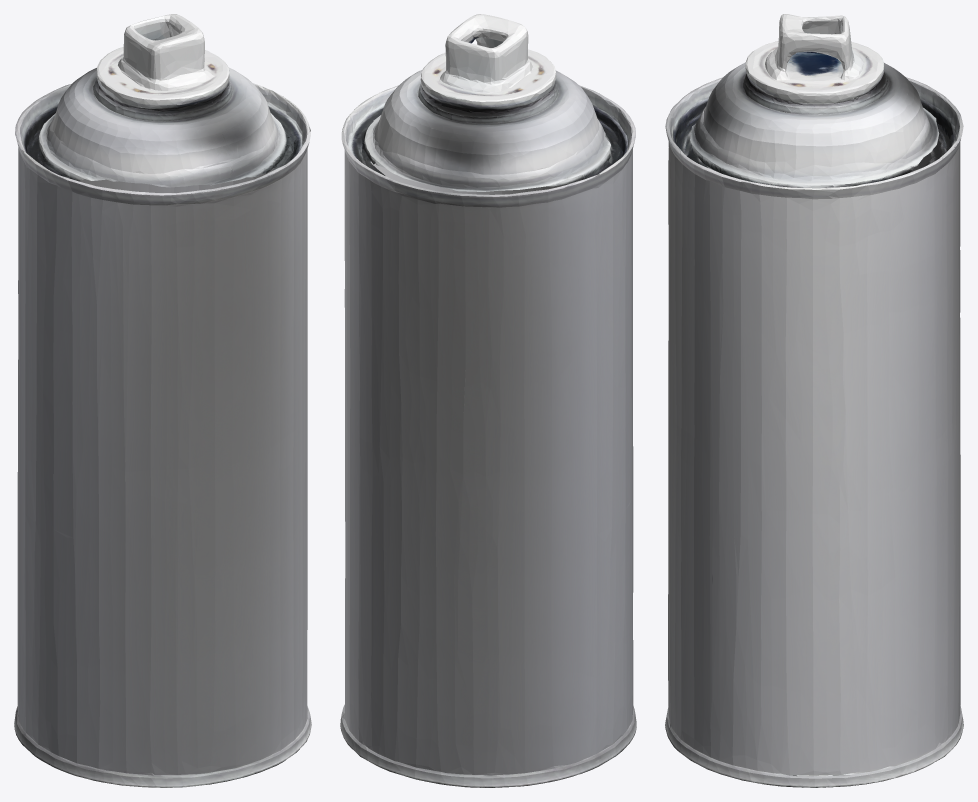
3 renders of one model, left to right at view 1: azimuth 30°, elevation 25°; view 2: azimuth 150°, elevation 25°; view 3: azimuth 270°, elevation 25°, orthographic.
Visible parts, largest first — view 1: world; view 2: world; view 3: world.
Part boxes in pixels (x1,y1,x2,y2): world: (14, 14, 311, 787); world: (340, 14, 636, 787); world: (665, 14, 963, 787).
Size of the model in its own units: 0.3788 by 0.9861 by 0.3791.
Materials: 1 (1 with a texture image).
